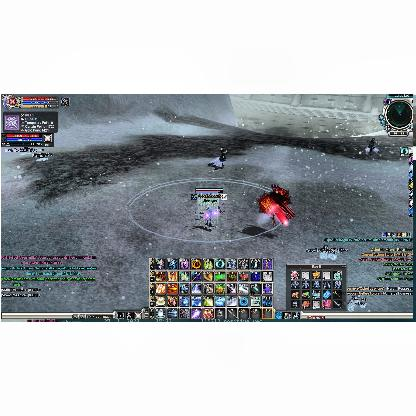caliana: (208, 146, 226, 170), (366, 138, 380, 156)
